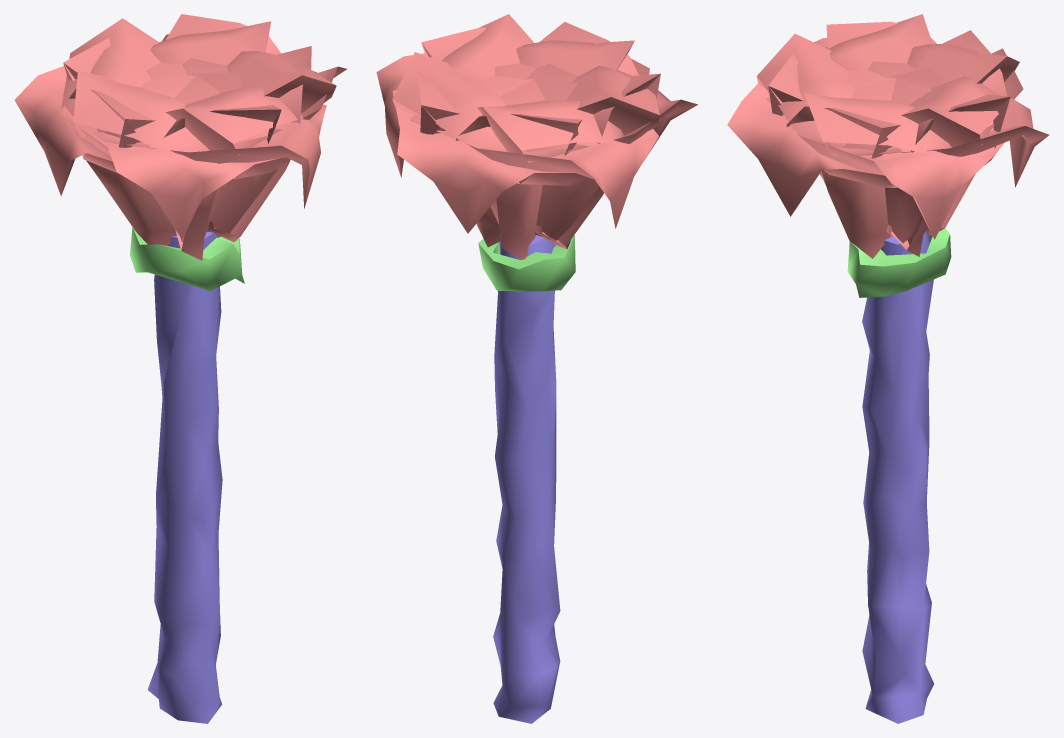
The model's file is FlowerTreeOptimized.FBX.
The picture shows the model from 3 angles, left to right: view 1: azimuth 30°, elevation 25°; view 2: azimuth 150°, elevation 25°; view 3: azimuth 270°, elevation 25°; orthographic projection.
Parts seen in each view (by area): view 1: Group53551, Object001, Object002; view 2: Group53551, Object001, Object002; view 3: Group53551, Object001, Object002.
Boxes of the visible parts, x1,y1,x2,y2 form: Group53551: (14,14,346,260); Object001: (147,232,222,723); Object002: (130,227,244,291); Group53551: (376,14,697,259); Object001: (493,235,560,723); Object002: (478,235,575,291); Group53551: (727,14,1049,258); Object001: (862,231,933,723); Object002: (847,228,951,297).
Bounding box in the file's own units: 746 × 1665 × 753.
